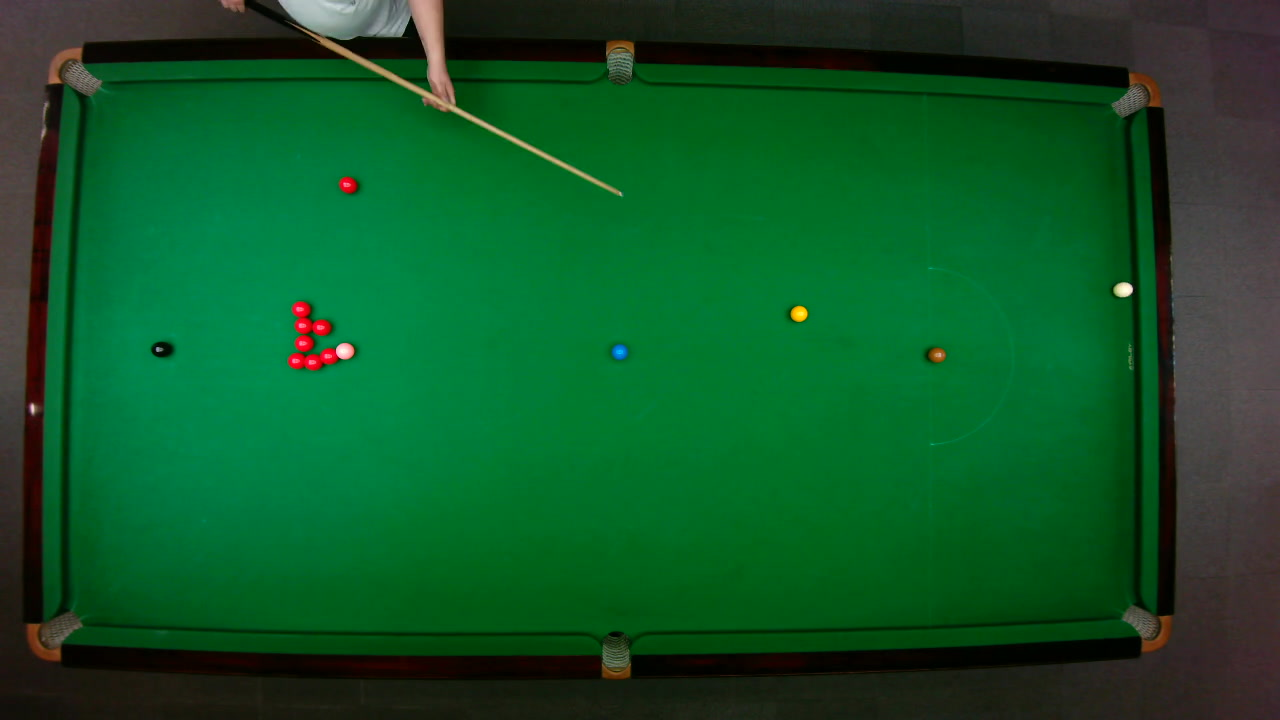bag: (25, 609, 83, 662), (46, 46, 102, 97), (1119, 603, 1172, 652), (1108, 71, 1161, 118), (601, 629, 630, 680), (605, 38, 633, 85)
black: (149, 339, 172, 357)
blue: (610, 342, 628, 360)
brown: (926, 346, 946, 362)
cue: (251, 0, 625, 200)
pink: (334, 341, 355, 360)
red: (337, 175, 358, 194), (302, 352, 323, 370), (310, 317, 331, 335), (290, 299, 311, 317), (318, 346, 337, 365), (293, 334, 313, 352), (286, 351, 305, 369), (292, 317, 312, 334)
white: (1111, 280, 1133, 297)
yellow: (788, 304, 808, 322)
zone: (927, 265, 1013, 445)
